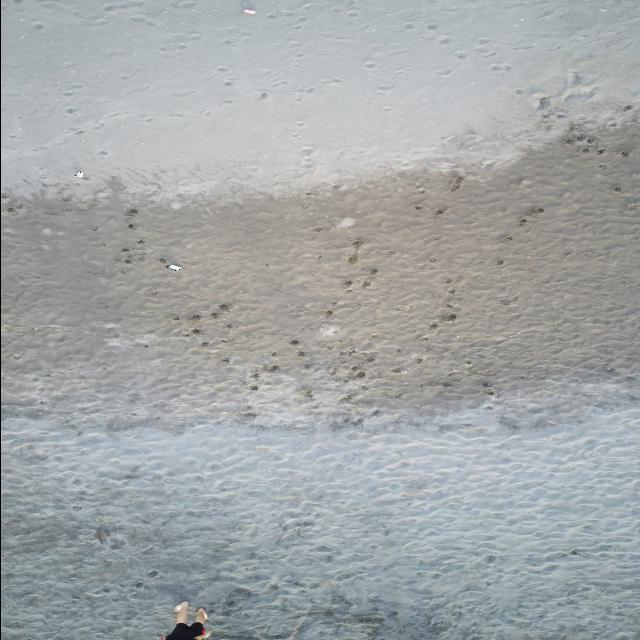Garbage: (164, 263, 180, 270), (75, 169, 83, 176), (243, 8, 254, 13)
